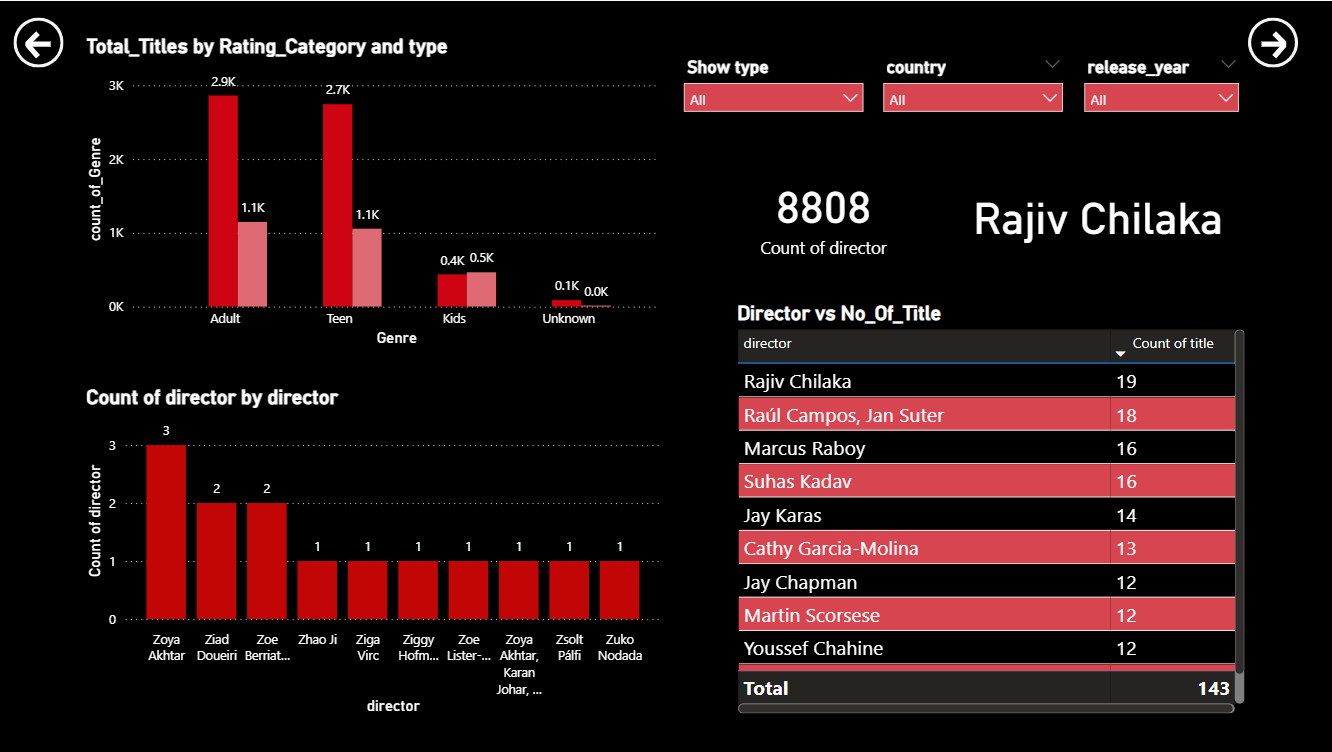

Layout of this report page (visuals, bound fields, positions):
{"tool":"powerbi","page":{"name":"Content Analysis","canvas":[1280,720],"ordinal":1},"visuals":[{"type":"clusteredColumnChart","fields":{"Series":["netflix_titles.type"],"Category":["netflix_titles.Rating_Category"],"Y":["category_mapping.Total_Titles"]},"box":[80,32,560,304],"z":0},{"type":"clusteredColumnChart","fields":{"Category":["netflix_titles.director"],"Y":["netflix_titles.director"]},"box":[80,368,560,320],"z":1000},{"type":"tableEx","title":"Director vs No_Of_Title","fields":{"Values":["netflix_titles.director","netflix_titles.title"]},"box":[704,288,496,400],"z":2000},{"type":"slicer","fields":{"Values":["netflix_titles.type"]},"box":[648,48,192,72],"z":3000},{"type":"slicer","fields":{"Values":["netflix_titles.country"]},"box":[840,48,192,72],"z":4000},{"type":"slicer","fields":{"Values":["netflix_titles.release_year"]},"box":[1032,48,168,72],"z":5000},{"type":"card","fields":{"Values":["netflix_titles.director"]},"box":[696,144,192,120],"z":6000},{"type":"card","fields":{"Values":["netflix_titles.director"]},"box":[888,144,336,120],"z":7000},{"type":"actionButton","box":[1200,16,48,48],"z":8000},{"type":"actionButton","box":[16,16,48,48],"z":9000}]}

Visuals, with their boxes in screenshot pixels (x1, y1, x2, y2), scaled from the page's 1280x720 canvas onto the 1332x752 screenshot:
clusteredColumnChart - netflix_titles.type x netflix_titles.Rating_Category: x1=83 y1=33 x2=666 y2=351
clusteredColumnChart - netflix_titles.director x netflix_titles.director: x1=83 y1=384 x2=666 y2=719
"Director vs No_Of_Title" tableEx: x1=733 y1=301 x2=1249 y2=719
slicer - netflix_titles.type: x1=674 y1=50 x2=874 y2=125
slicer - netflix_titles.country: x1=874 y1=50 x2=1074 y2=125
slicer - netflix_titles.release_year: x1=1074 y1=50 x2=1249 y2=125
card - netflix_titles.director: x1=724 y1=150 x2=924 y2=276
card - netflix_titles.director: x1=924 y1=150 x2=1274 y2=276
actionButton: x1=1249 y1=17 x2=1299 y2=67
actionButton: x1=17 y1=17 x2=67 y2=67
